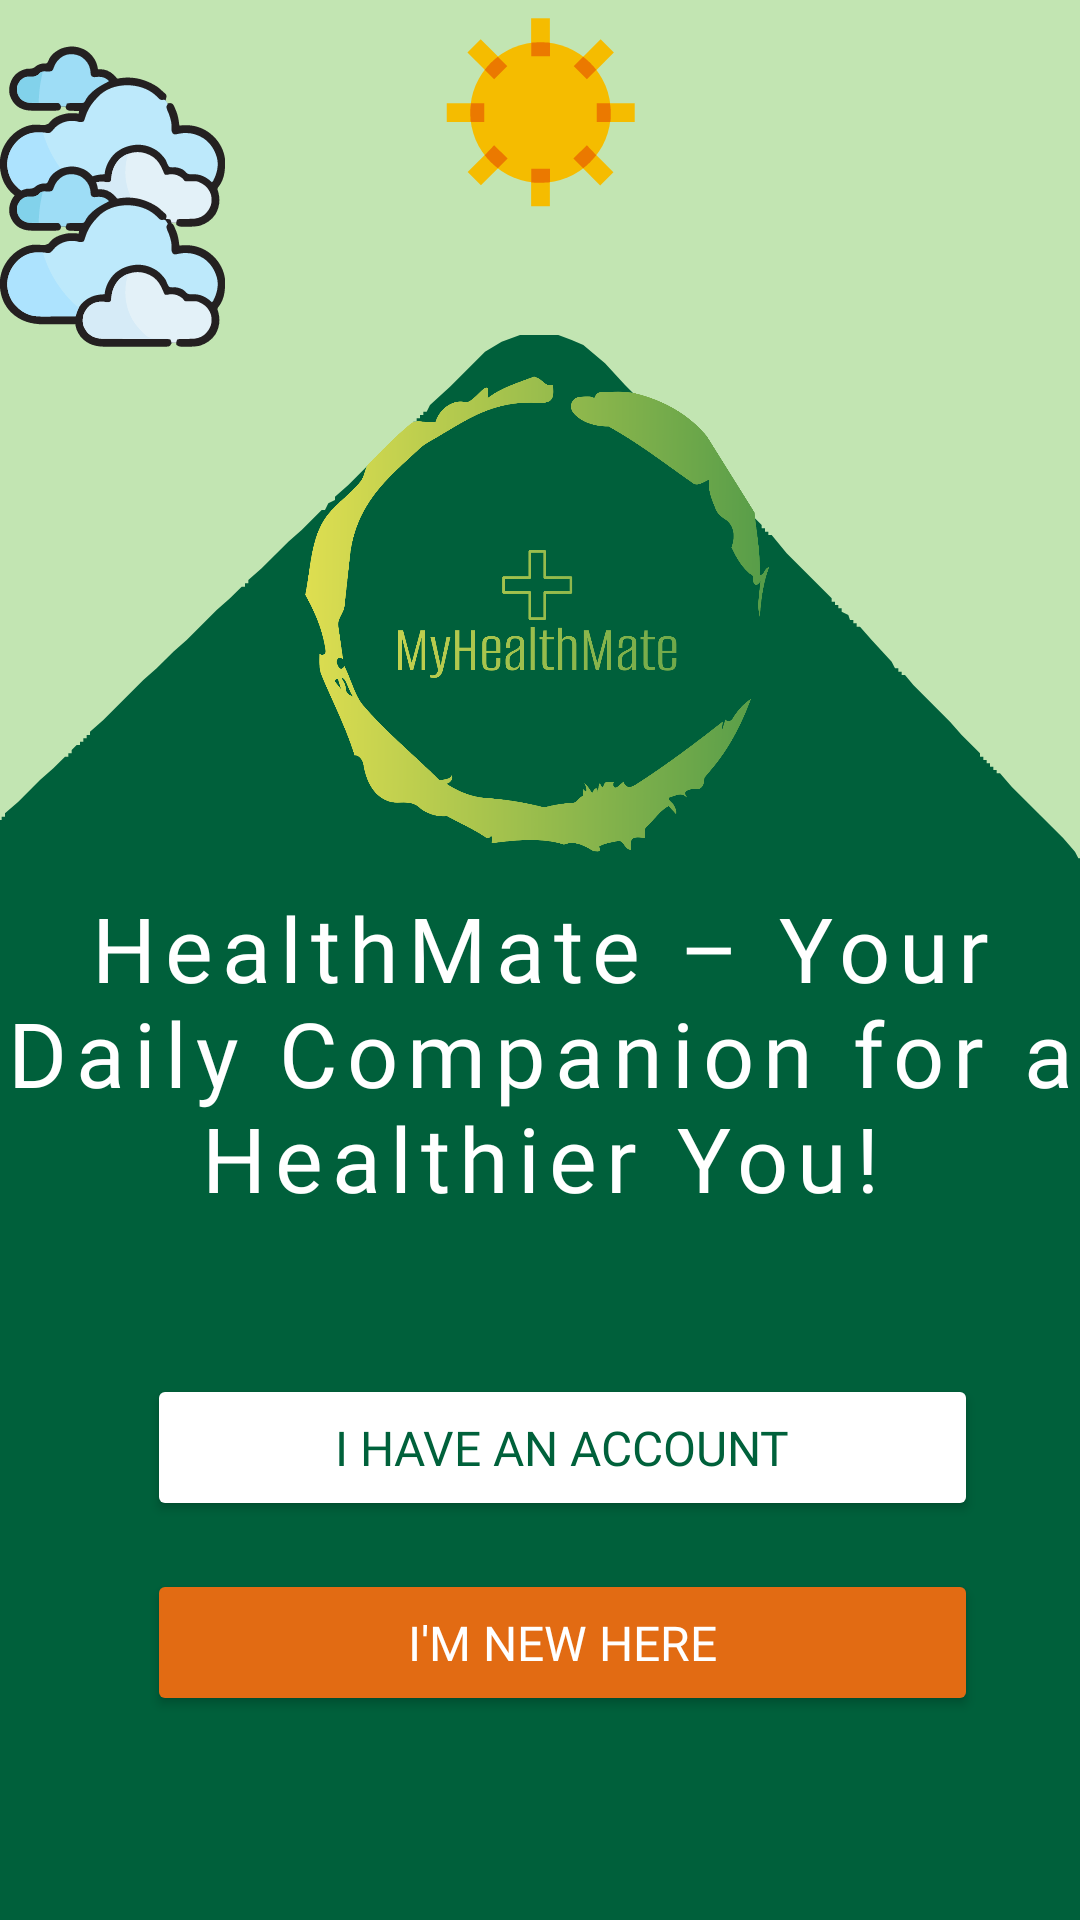

Icons on this 1080 x 1920 Android screen, each with the point to tap as [x,y]:
clouds: [112,147], [112,245]
sun: [540,112]
